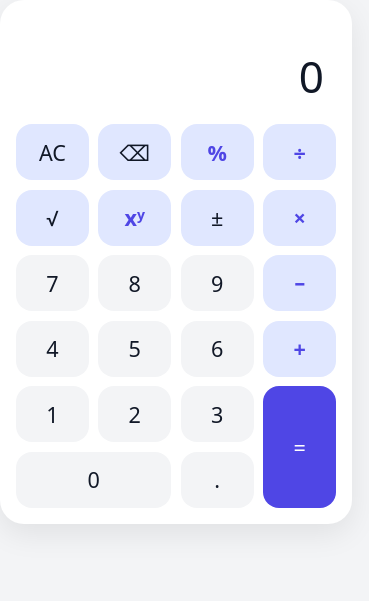
it: Calculator › clears the display and the error
Click the button "5" at (135, 349), box [98,321,171,377]
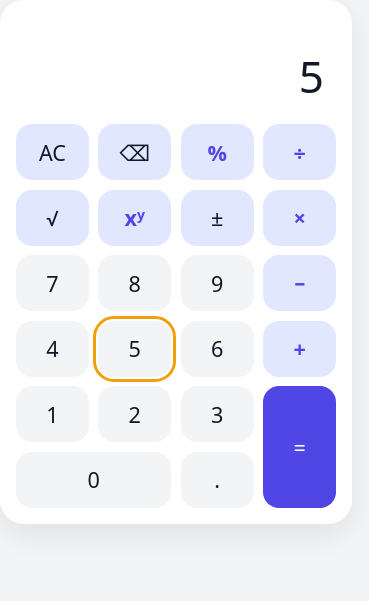
Click the button named "divide" at (300, 152), box [263,124,336,180]
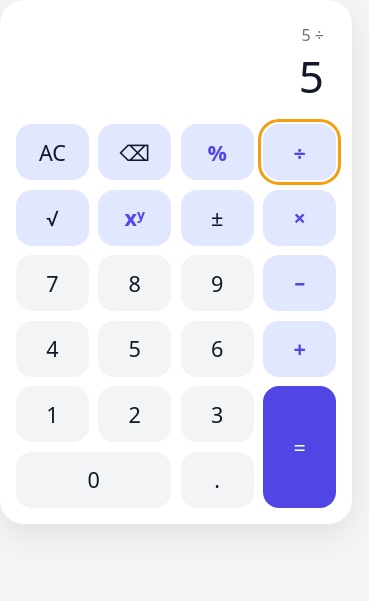
Click the button "0" at (94, 480), box [16,452,171,508]
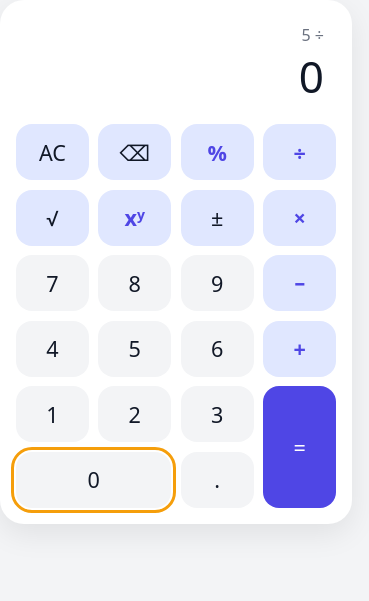
Click the button named "equals" at (300, 447), box [263,386,336,508]
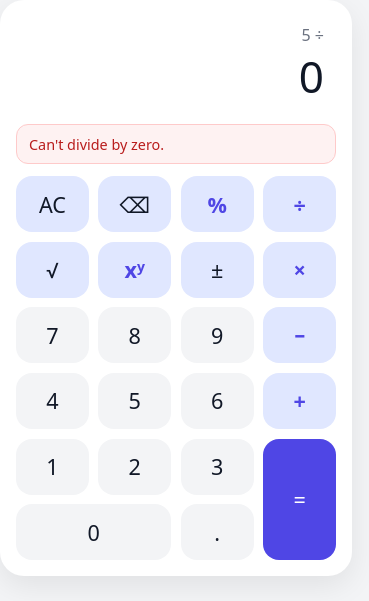
Expected: the message "Can't divide by zero." is shown, [16,124,336,164]
Click the button with aria-label "clear" at (52, 204), box [16,176,89,232]
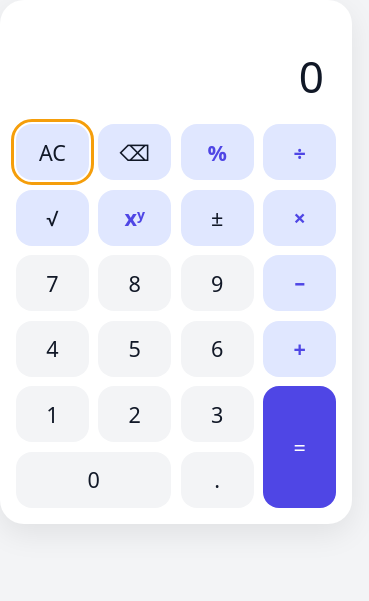
Expected: the text named "result" reads "0", [299,46,324,106]
Expected: the message "Can't divide by zero." is gone
